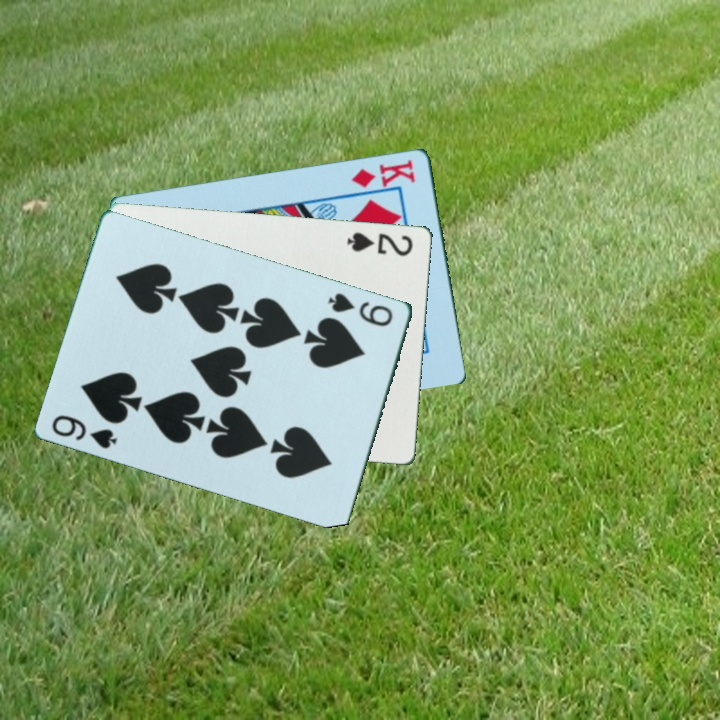2s: (343, 228, 417, 259)
9s: (48, 410, 121, 452), (325, 289, 397, 330)
Kd: (348, 155, 419, 191)
